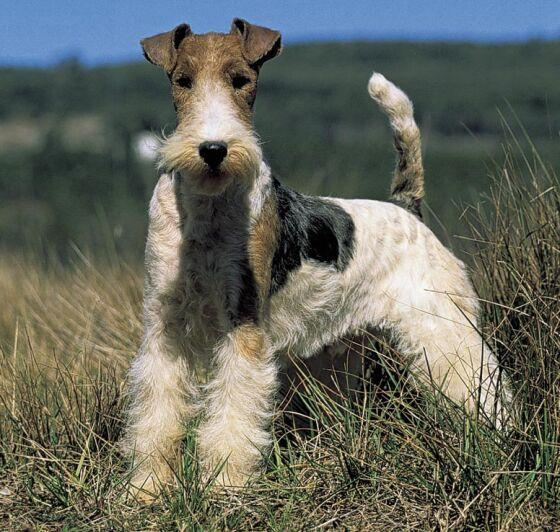wire-haired_fox_terrier: (111, 11, 525, 521)
